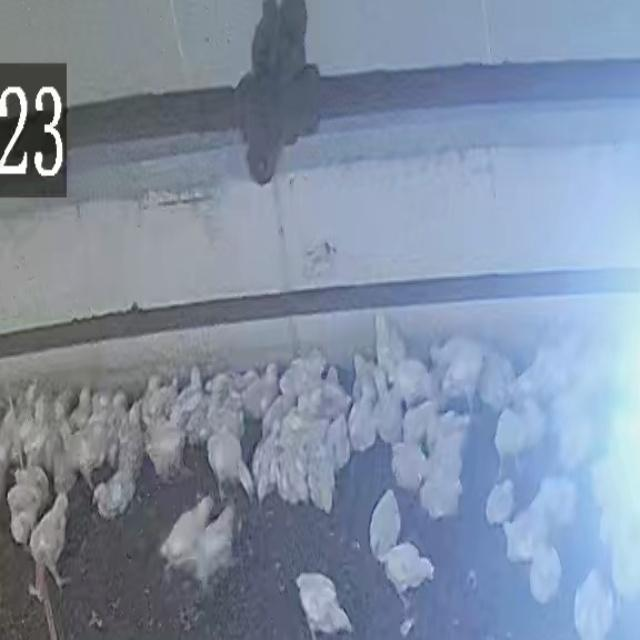chicken: (29, 491, 76, 583), (494, 394, 548, 472), (292, 570, 353, 638), (206, 427, 252, 509), (191, 504, 239, 581), (518, 340, 573, 404), (436, 337, 488, 402), (553, 396, 596, 473), (588, 452, 629, 531), (304, 424, 340, 513), (500, 504, 549, 568), (164, 496, 209, 565), (528, 476, 579, 536), (371, 486, 406, 569), (574, 570, 614, 638), (62, 422, 100, 490), (145, 419, 185, 483), (387, 545, 435, 598), (251, 429, 283, 505), (420, 464, 462, 521), (390, 356, 432, 412), (474, 351, 512, 412), (526, 542, 562, 606), (92, 468, 134, 521), (211, 388, 248, 448), (608, 533, 640, 602), (377, 317, 409, 383), (391, 441, 428, 498), (275, 437, 306, 505), (430, 409, 468, 464), (279, 351, 322, 398), (280, 402, 318, 455), (372, 379, 402, 446), (404, 396, 440, 451), (8, 478, 37, 546), (241, 366, 277, 420), (347, 390, 377, 452), (115, 408, 142, 476), (324, 413, 351, 477), (12, 461, 49, 507), (316, 376, 352, 422), (484, 478, 516, 528), (144, 374, 175, 424), (51, 442, 78, 499), (351, 352, 378, 409), (183, 385, 212, 438), (294, 385, 328, 425), (0, 399, 19, 469), (42, 423, 66, 478), (264, 392, 292, 437), (17, 404, 41, 456), (205, 371, 233, 413), (25, 429, 50, 475), (428, 338, 454, 376), (108, 390, 130, 434), (54, 383, 78, 421), (73, 386, 94, 426), (0, 440, 12, 509), (105, 420, 122, 468), (371, 362, 390, 404), (88, 388, 110, 424), (32, 391, 51, 432), (57, 418, 75, 461), (127, 396, 145, 436), (323, 364, 343, 394), (188, 365, 202, 395), (0, 435, 54, 438)
